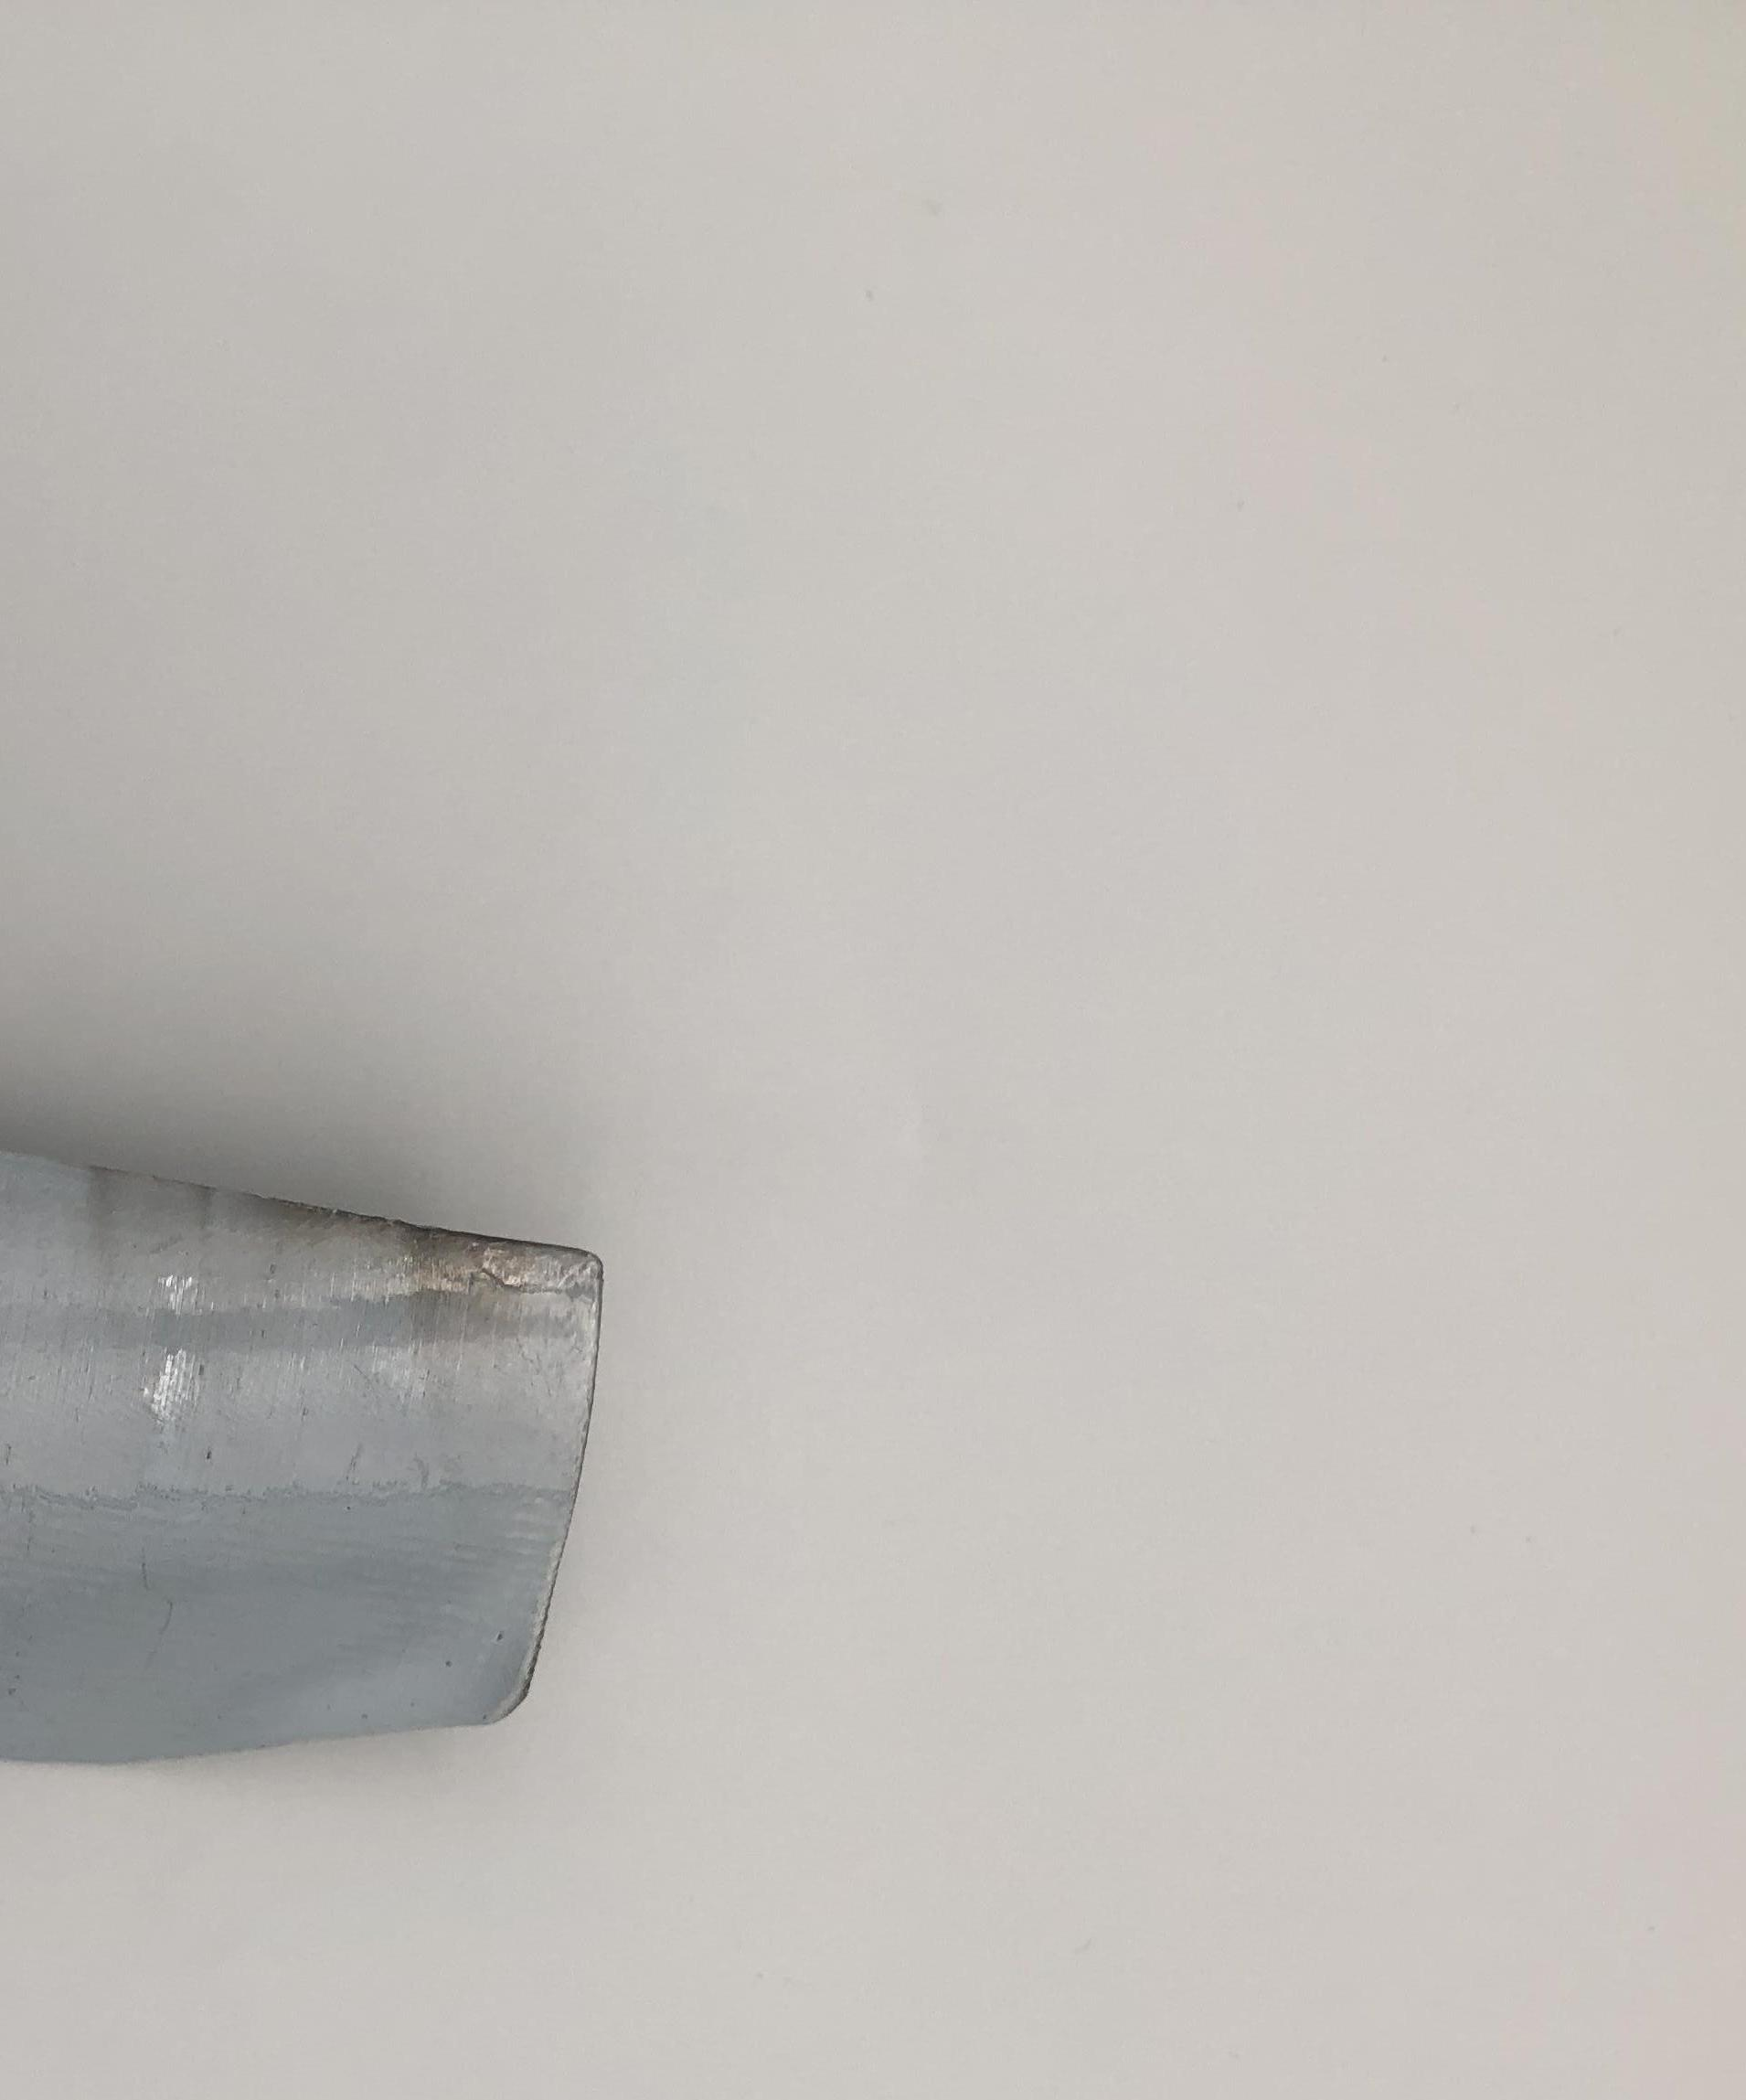ablation: (145, 1156, 605, 1315)
